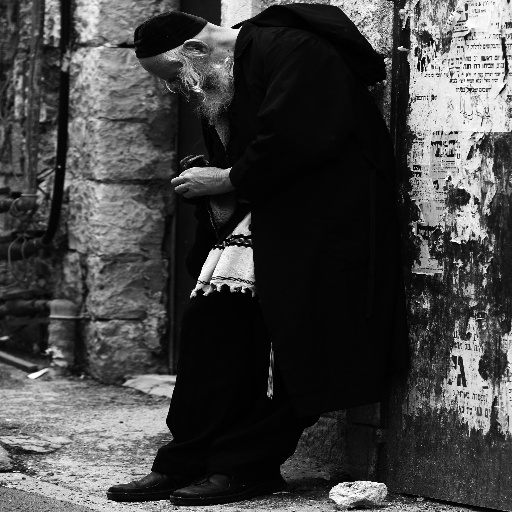hand: (169, 164, 234, 199)
